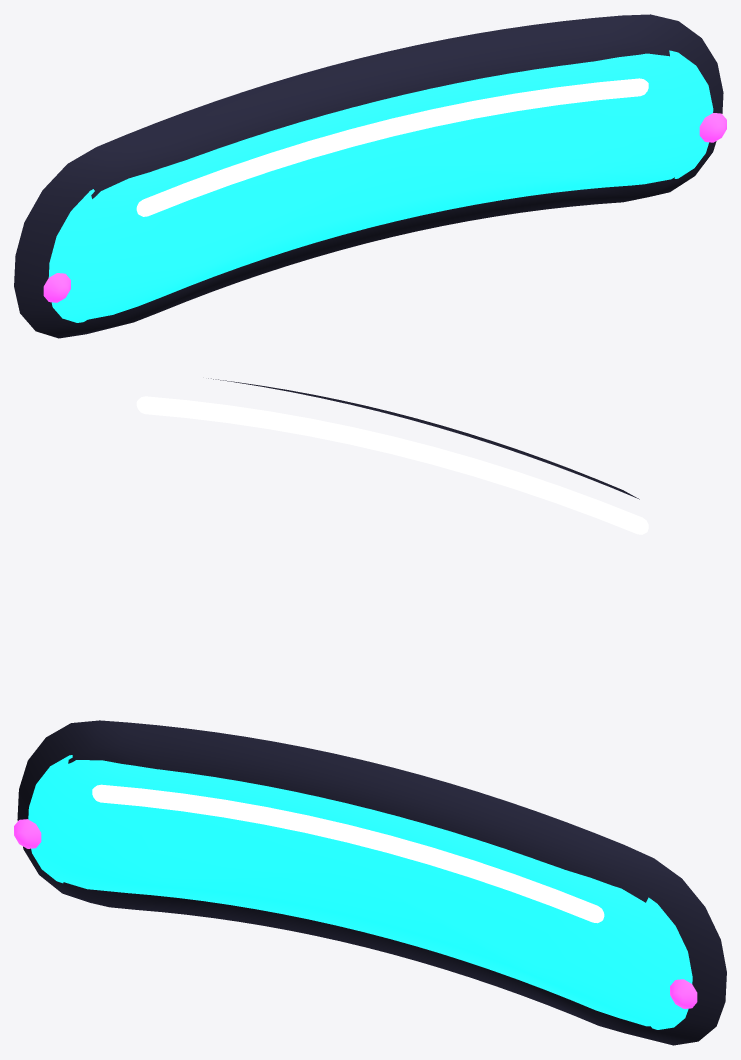
Rendered from cyber_visor.glb.
3 renders of one model, top to bottom at view 1: azimuth 30°, elevation 25°; view 2: azimuth 150°, elevation 25°; view 3: azimuth 330°, elevation 25°, orthographic.
Parts seen in each view (by area): view 1: cyber_visor; view 2: cyber_visor; view 3: cyber_visor.
Part boxes in pixels (bbox=[...]): cyber_visor: bbox=[14, 14, 726, 338]; cyber_visor: bbox=[136, 378, 648, 534]; cyber_visor: bbox=[14, 720, 726, 1045].
Size of the model in its own units: 0.545 by 0.1539 by 0.0358.
